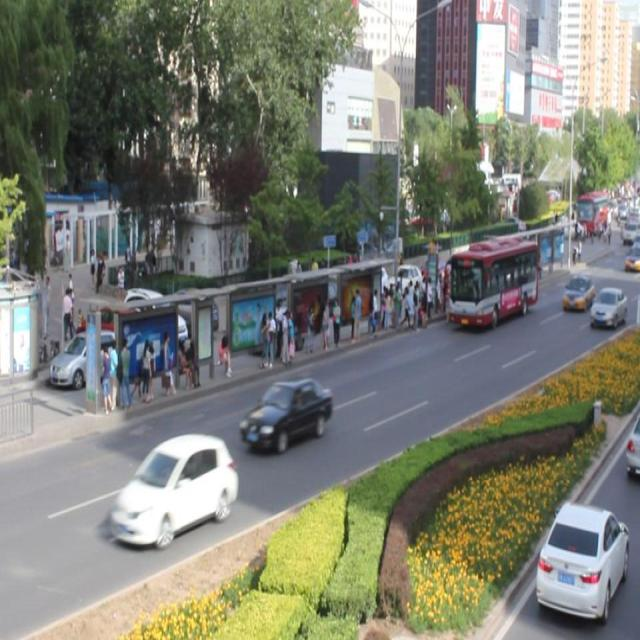car: (108, 430, 237, 544), (239, 375, 333, 450), (587, 284, 625, 325), (560, 273, 593, 309)
van: (448, 233, 538, 326)
